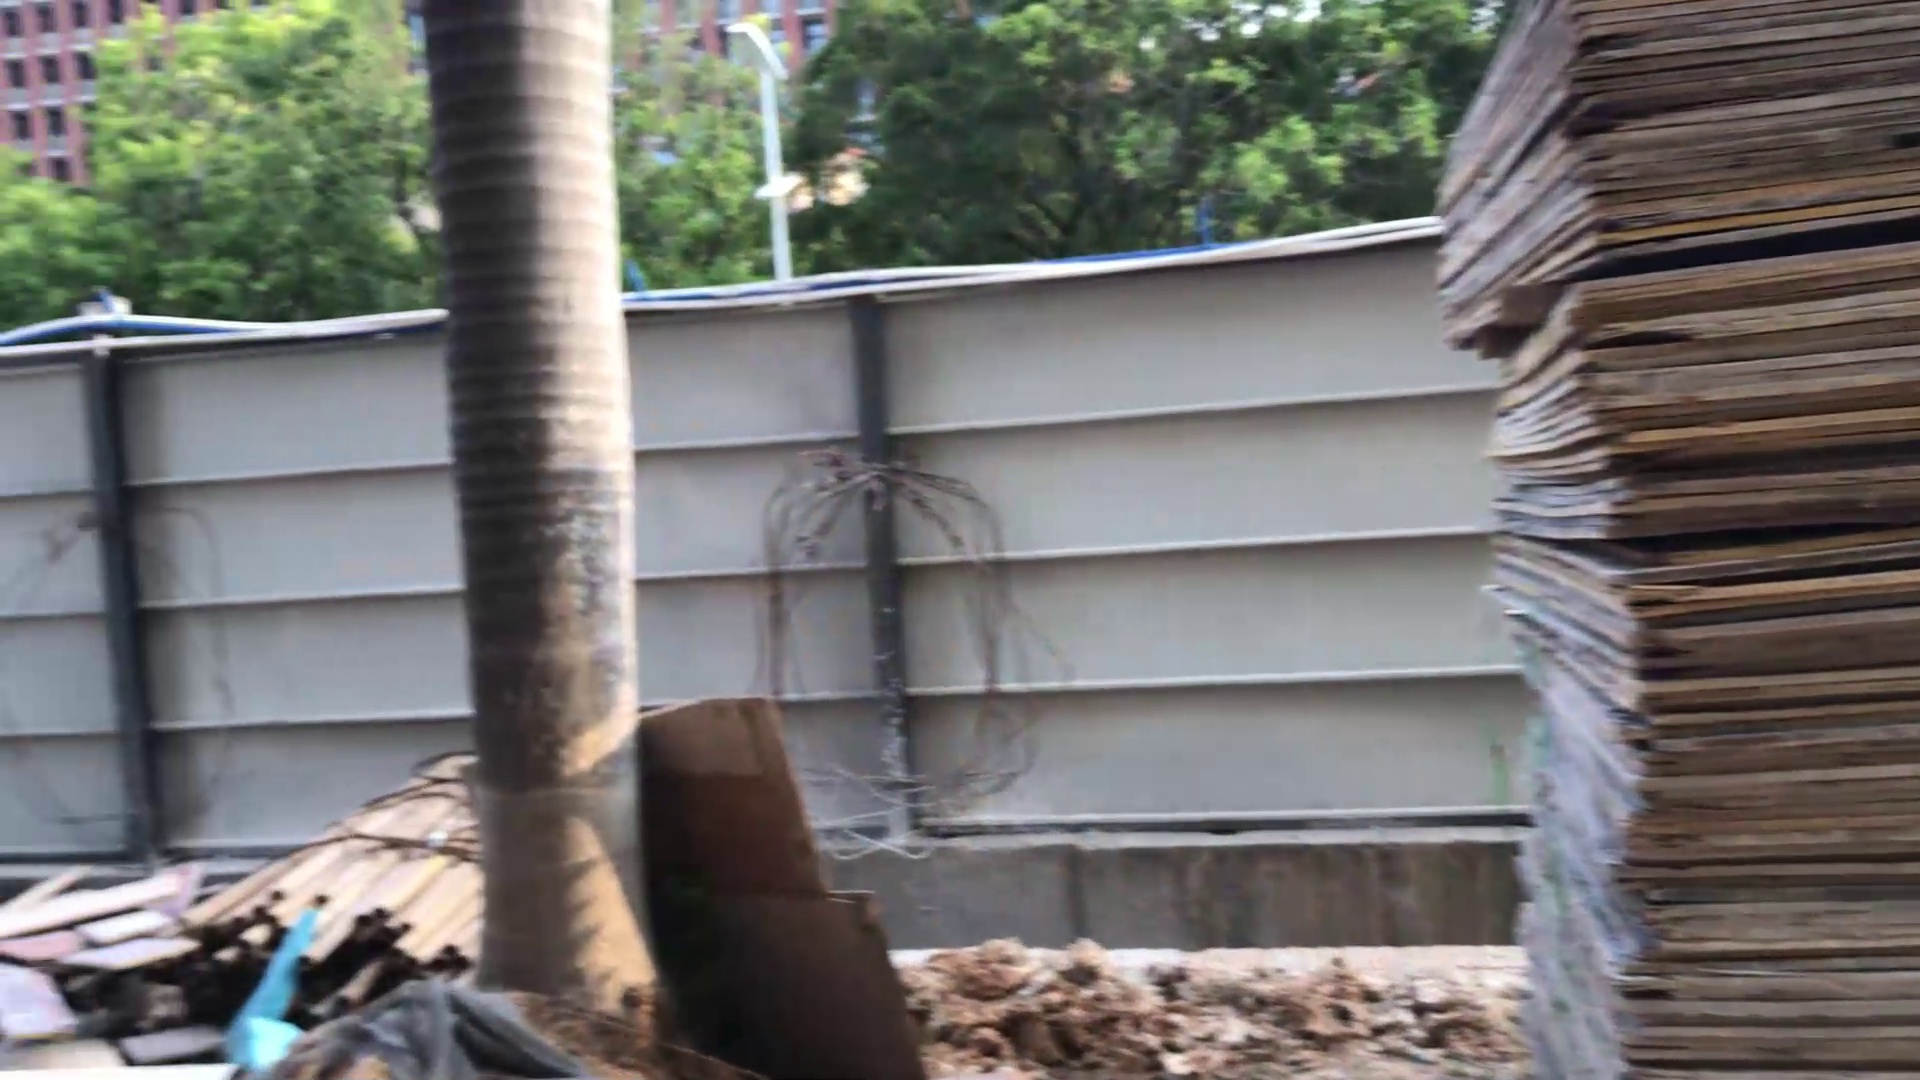board: (1429, 1, 1920, 1080)
scaffold: (174, 742, 477, 1009)
